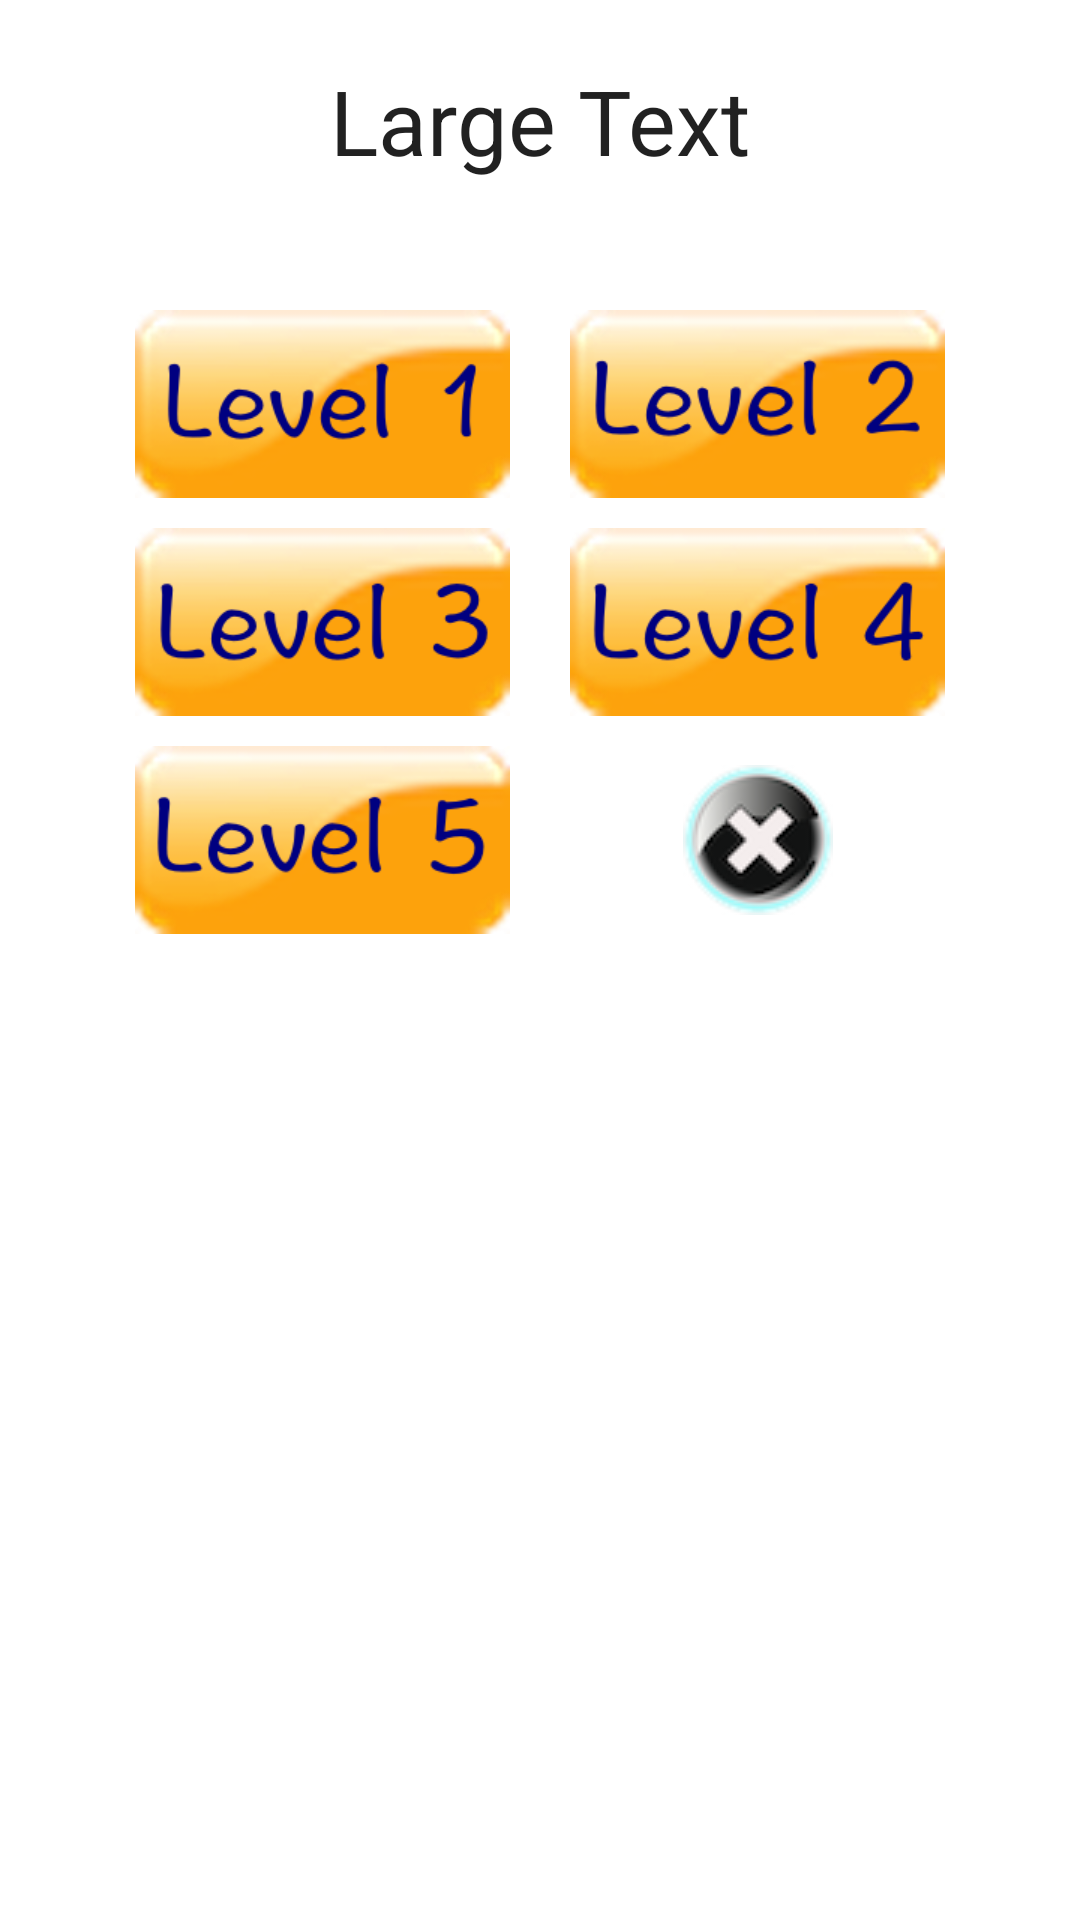

Named icons in this screenshot (1080 x 1920) and their bounding boxes, bbox=[x1, y1, x2, y2]:
cancel: bbox=[685, 767, 831, 913]
